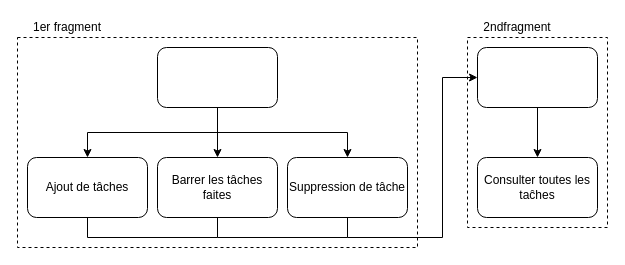
Some shapes in this 625 by 265 pixel diagram are drawn without their labels. The centre of each missing label's shape, as x and y in pixels:
"archive" goes at point 537,77.
"main" goes at point 217,77.
